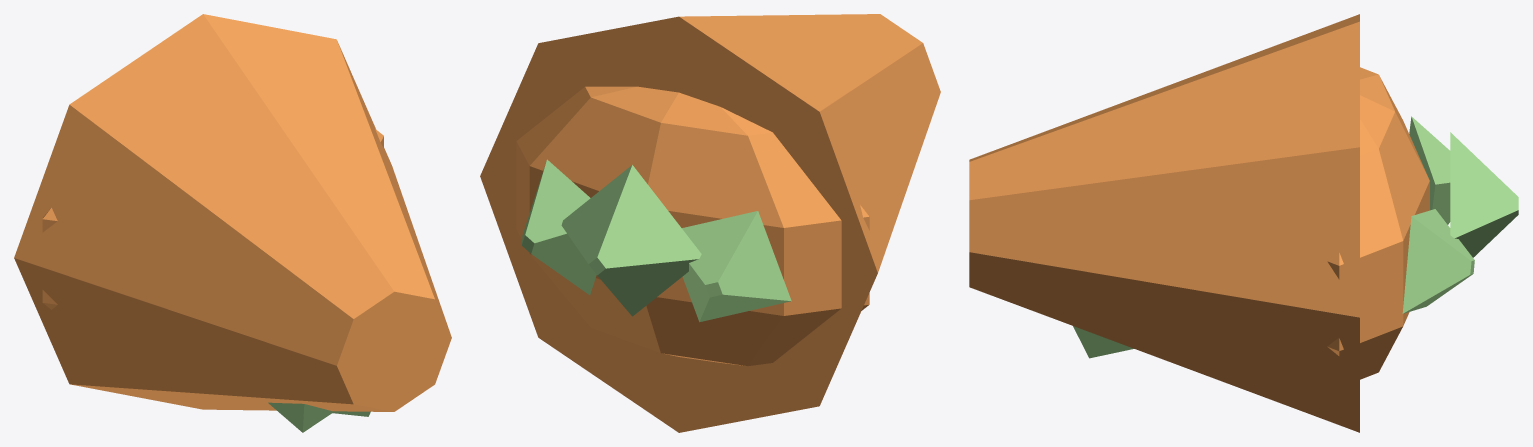
File: sig_rabbit.glb
3 views of the same model, side by side, from view 1: azimuth 30°, elevation 25°; view 2: azimuth 150°, elevation 25°; view 3: azimuth 270°, elevation 25° (orthographic). The views are drawn at different scales.
Visible parts, largest first — view 1: Cone, Cube, Sphere; view 2: Cone, Sphere, Cone.001, Cone.002, Cone.003; view 3: Cone, Sphere, Cone.001, Cone.003, Cone.002, Cube.001.
Boxes of the visible parts, bbox=[...] form: Cone: bbox=[14, 14, 451, 411]; Cube: bbox=[268, 402, 332, 432]; Sphere: bbox=[42, 129, 383, 309]; Cone: bbox=[480, 14, 940, 432]; Sphere: bbox=[516, 86, 869, 365]; Cone.001: bbox=[561, 165, 701, 316]; Cone.002: bbox=[682, 211, 791, 322]; Cone.003: bbox=[521, 159, 596, 295]; Cone: bbox=[969, 14, 1359, 432]; Sphere: bbox=[1327, 67, 1429, 379]; Cone.001: bbox=[1450, 132, 1518, 257]; Cone.003: bbox=[1402, 209, 1474, 313]; Cone.002: bbox=[1409, 116, 1450, 224]; Cube.001: bbox=[1073, 326, 1133, 358].
Bounding box in the file's own units: 0.23 × 0.23 × 0.2834.
